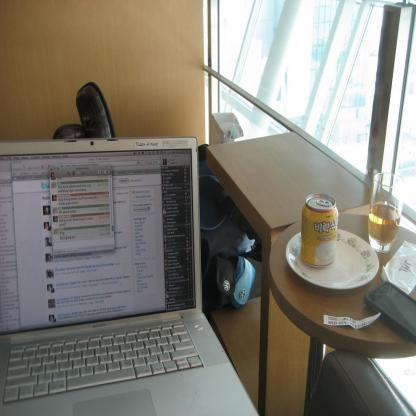board: (0, 137, 259, 416), (301, 195, 338, 269)
